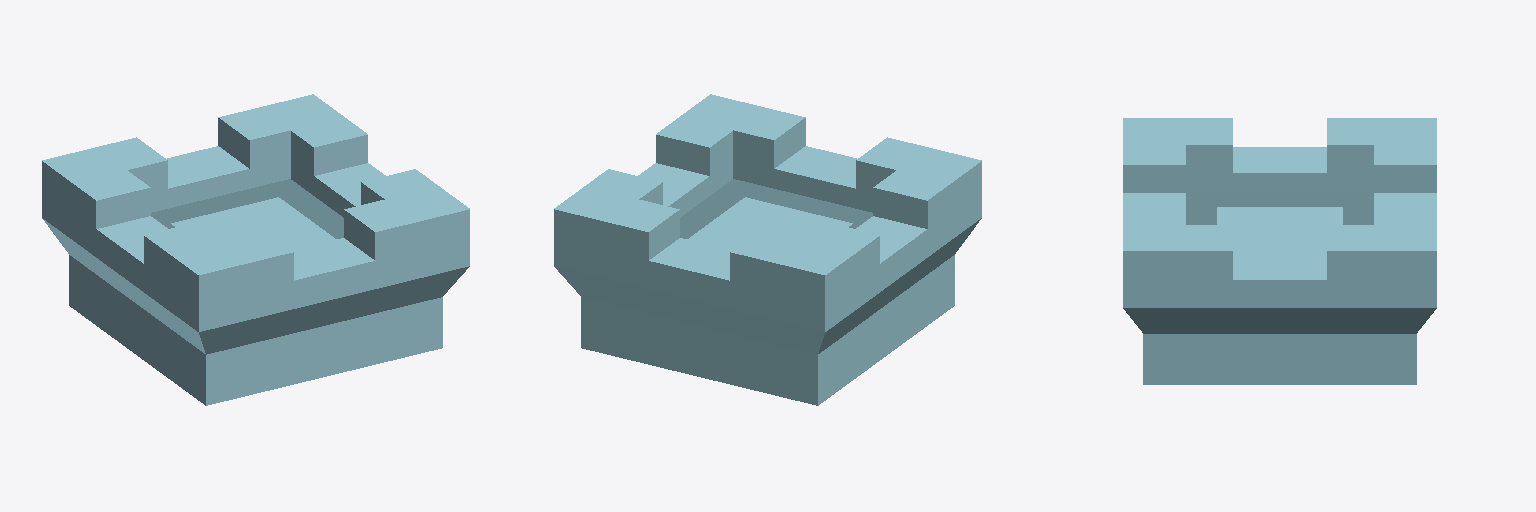
File: towerSquare_topC.obj
3 renders of one model, left to right at view 1: azimuth 30°, elevation 25°; view 2: azimuth 150°, elevation 25°; view 3: azimuth 270°, elevation 25°, orthographic.
Visible parts, largest first — view 1: towerSquare_topC; view 2: towerSquare_topC; view 3: towerSquare_topC.
Boxes of the visible parts, <box> form: towerSquare_topC: <box>42,94,469,405</box>; towerSquare_topC: <box>554,94,981,405</box>; towerSquare_topC: <box>1123,118,1436,384</box>.
Size of the model in its own units: 1 by 0.5 by 1.